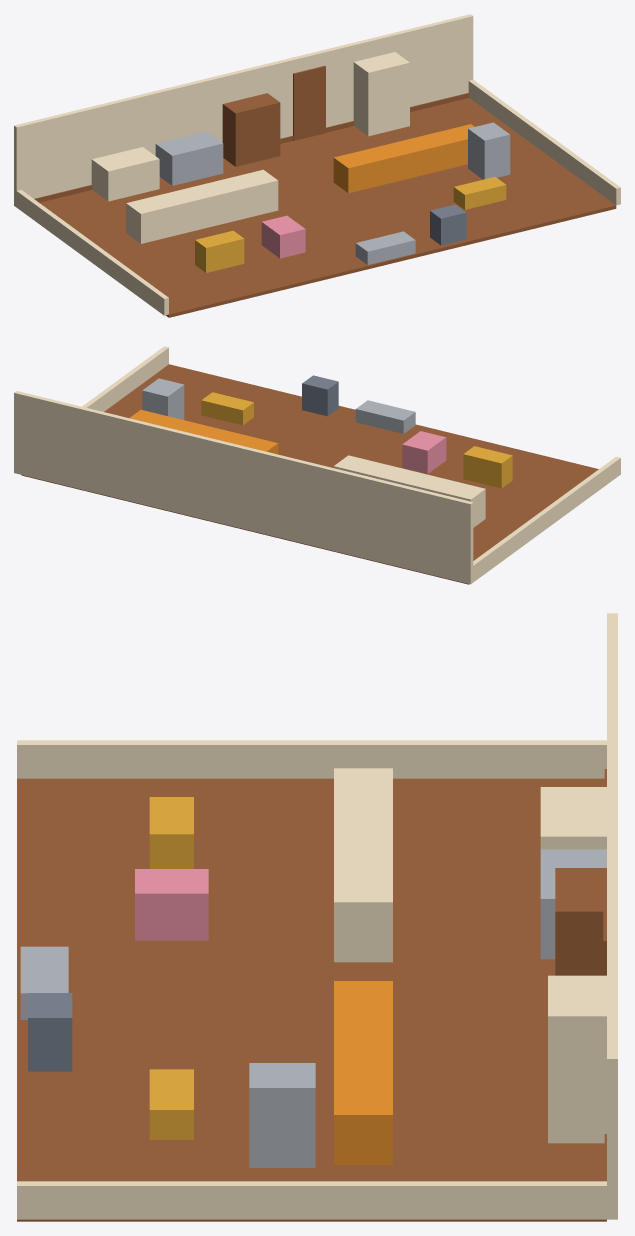
File: SM_room_condo.glb
The picture shows the model from 3 angles, top to bottom: view 1: azimuth 30°, elevation 25°; view 2: azimuth 150°, elevation 25°; view 3: azimuth 270°, elevation 25°; orthographic projection. The views are drawn at different scales.
Parts seen in each view (by area): view 1: SM_room_condo_shell, PH_5_counter, PH_6_sofa, PH_4_cabinet, PH_2_shelf, PH_0_counter, PH_1_sink, PH_7_rack, PH_9_table, PH_8_heavy, PH_12_cart, PH_10_table (+1 smaller); view 2: SM_room_condo_shell, PH_5_counter, PH_6_sofa, PH_9_table, PH_8_heavy, PH_7_rack, PH_12_cart, PH_11_bin, PH_10_table; view 3: SM_room_condo_shell, PH_5_counter, PH_6_sofa, PH_4_cabinet, PH_7_rack, PH_2_shelf, PH_8_heavy, PH_0_counter, PH_11_bin, PH_9_table, PH_10_table, PH_1_sink (+1 smaller).
Boxes of the visible parts, x1,y1,x2,y2 form: SM_room_condo_shell: (14, 14, 620, 317); PH_5_counter: (126, 169, 278, 243); PH_6_sofa: (333, 124, 474, 193); PH_4_cabinet: (353, 52, 409, 136); PH_2_shelf: (222, 93, 280, 166); PH_0_counter: (91, 147, 159, 201); PH_1_sink: (155, 131, 223, 185); PH_7_rack: (468, 122, 510, 179); PH_9_table: (195, 230, 244, 272); PH_8_heavy: (261, 215, 305, 258); PH_12_cart: (355, 231, 415, 264); PH_10_table: (453, 177, 506, 209); SM_room_condo_shell: (14, 346, 620, 584); PH_5_counter: (333, 455, 485, 527); PH_6_sofa: (129, 409, 278, 454); PH_9_table: (463, 446, 512, 488); PH_8_heavy: (402, 431, 446, 473); PH_7_rack: (142, 378, 184, 419); PH_12_cart: (355, 400, 415, 433); PH_11_bin: (302, 375, 338, 416); PH_10_table: (201, 392, 253, 425); SM_room_condo_shell: (17, 613, 617, 1221); PH_5_counter: (334, 768, 392, 962); PH_6_sofa: (334, 981, 392, 1164); PH_4_cabinet: (548, 975, 606, 1143); PH_7_rack: (249, 1063, 315, 1167); PH_2_shelf: (555, 868, 606, 975); PH_8_heavy: (135, 869, 208, 940); PH_0_counter: (540, 787, 606, 849); PH_11_bin: (28, 993, 72, 1071); PH_9_table: (149, 797, 193, 868); PH_10_table: (149, 1069, 193, 1139); PH_1_sink: (540, 849, 606, 959).
Bounding box in the file's own units: 14.3 × 2.5 × 8.15.
1 material, 1 textured.
